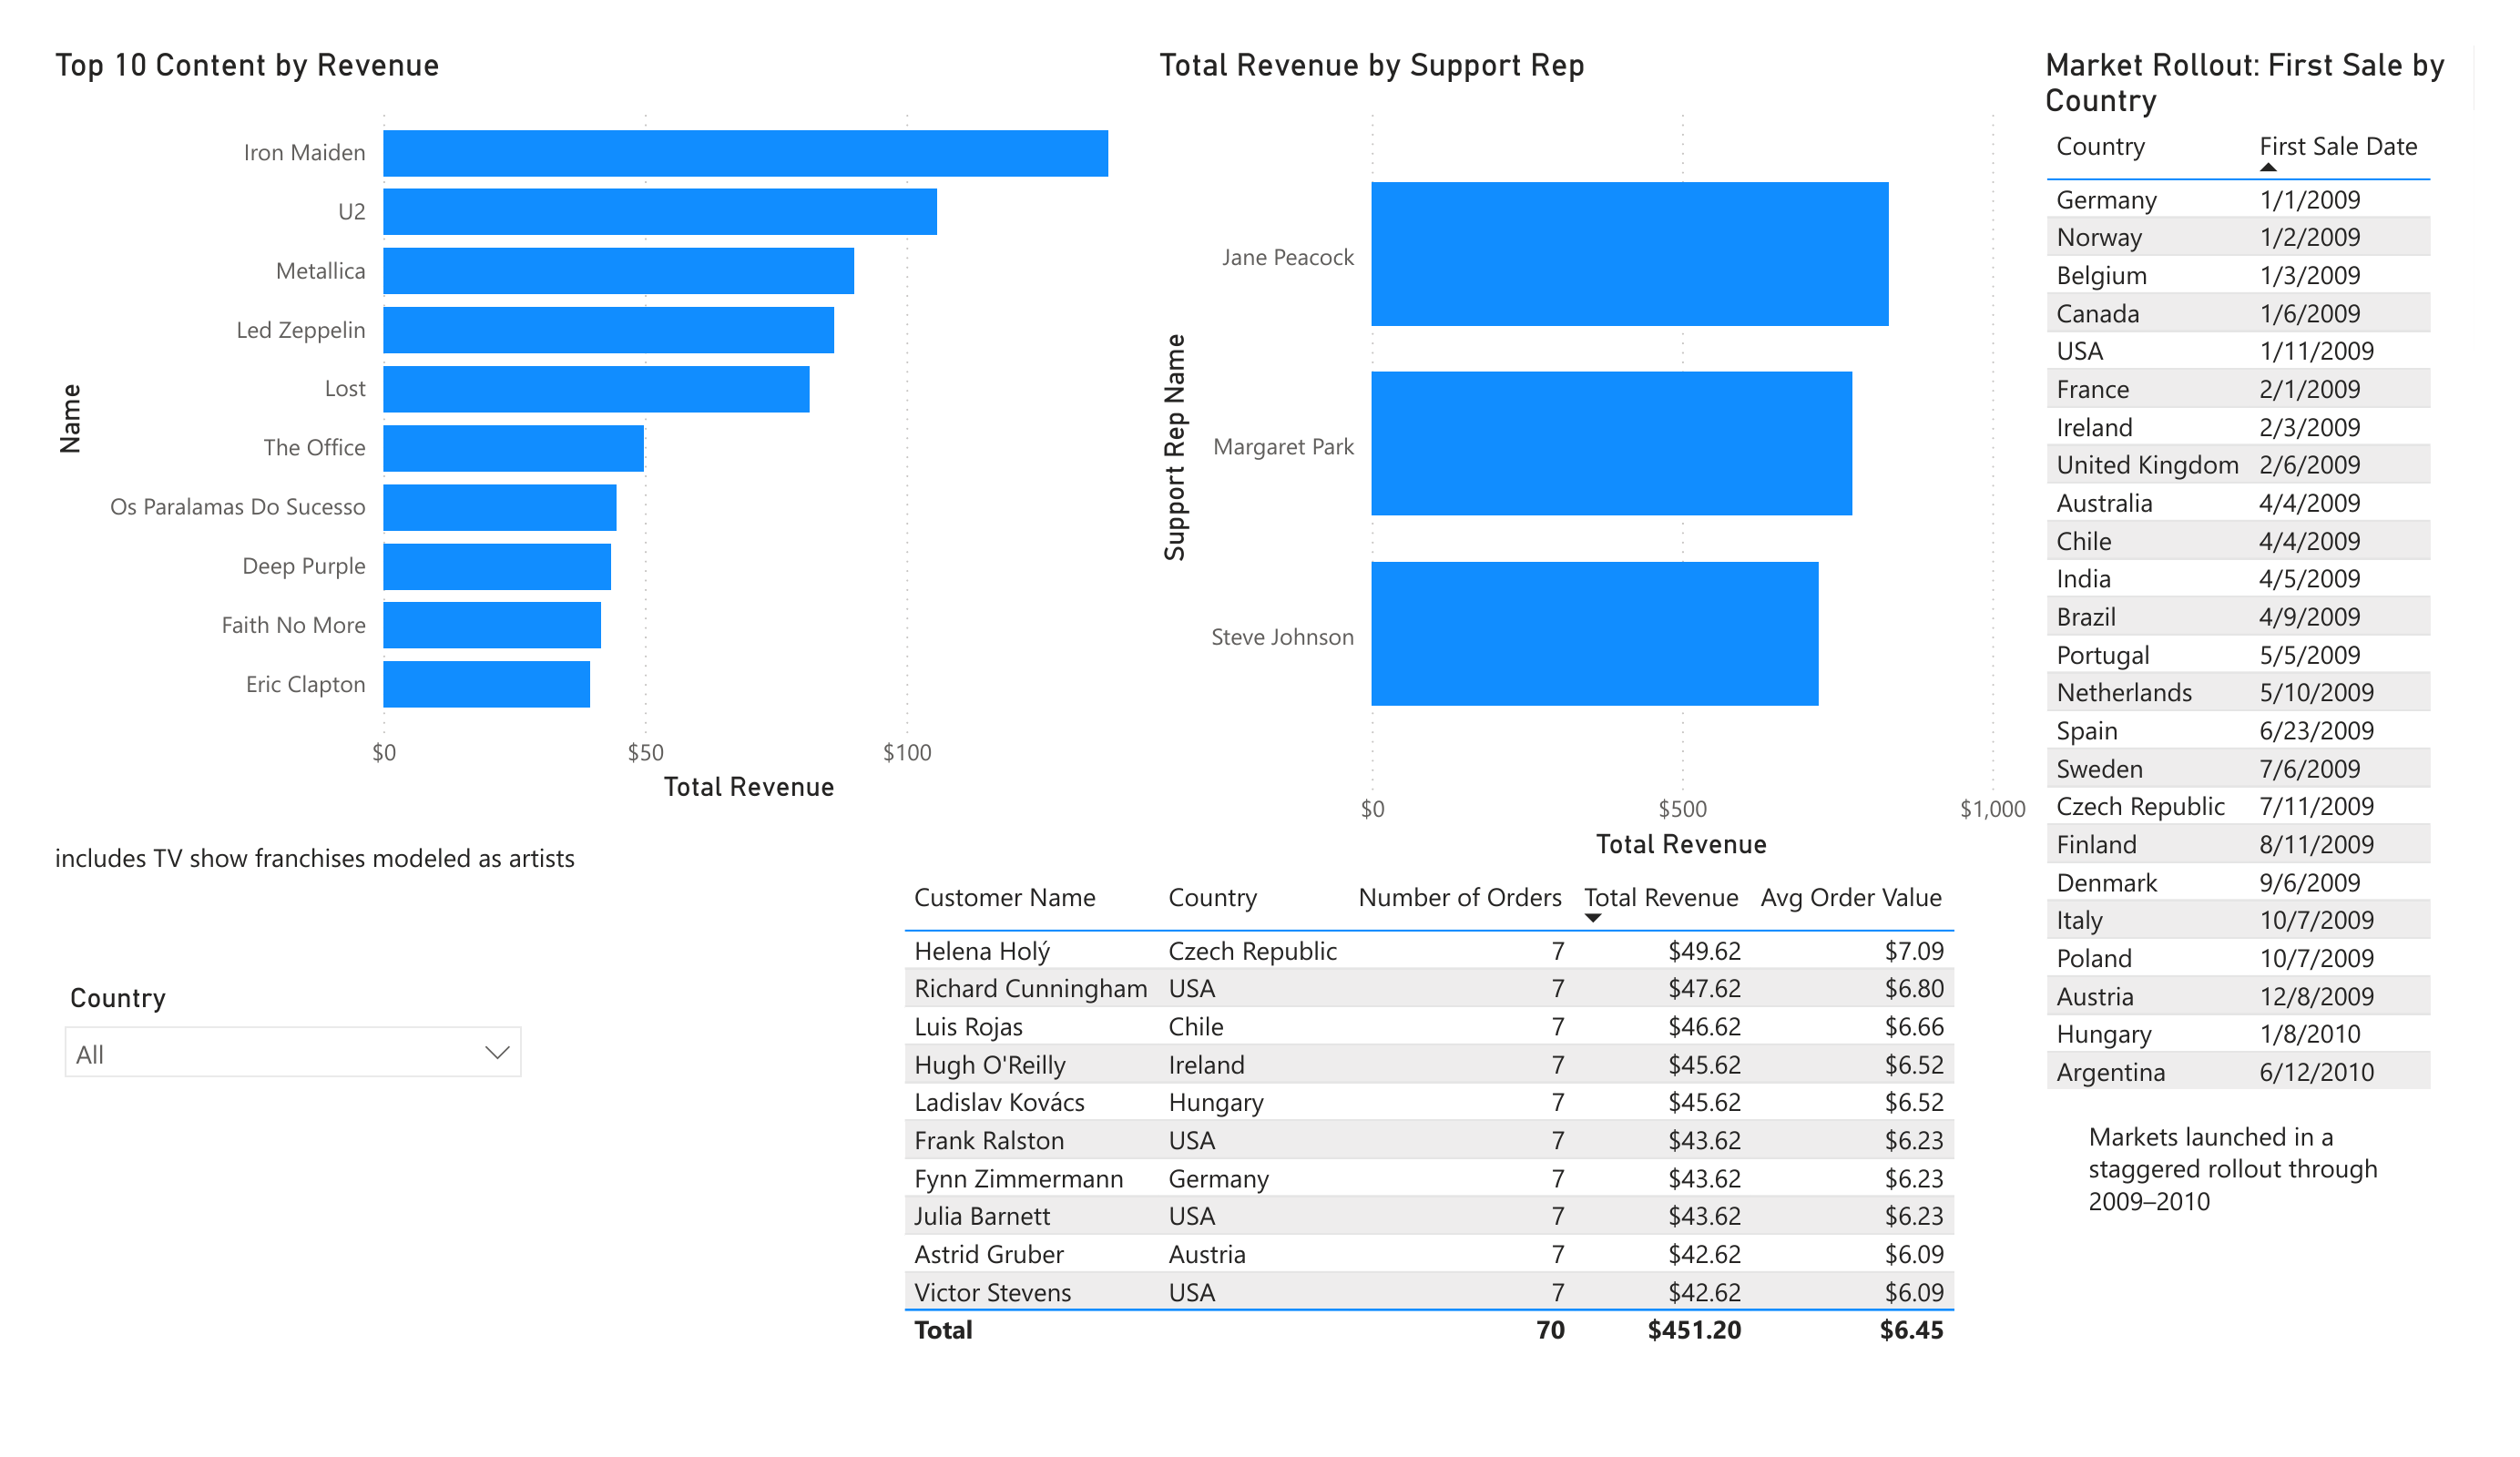

What the dashboard file says about the page in this screenshot:
{"tool":"powerbi","page":{"name":"Deep Dive","canvas":[1280,720],"ordinal":1},"visuals":[{"type":"clusteredBarChart","title":"Top 10 Content by Revenue","fields":{"Category":["Artist.Name"],"Y":["AllMeasures.Total Revenue"]},"box":[0,0,581.6,403.6],"z":0},{"type":"textbox","box":[0,414.3,521.3,37.9],"z":1},{"type":"tableEx","title":"Market Rollout: First Sale by Country","fields":{"Values":["Customer.Country","AllMeasures.First Sale Date"]},"box":[1049.5,0,230.5,561.2],"z":2},{"type":"clusteredBarChart","title":"Total Revenue by Support Rep","fields":{"Category":["Employee.Support Rep Name"],"Y":["AllMeasures.Total Revenue"]},"box":[581.6,0,467.8,433.8],"z":3},{"type":"tableEx","fields":{"Values":["Customer.Customer Name","Customer.Country","AllMeasures.Number of Orders","AllMeasures.Total Revenue","AllMeasures.Avg Order Value"]},"box":[447.4,433.8,587.5,286],"z":4},{"type":"slicer","fields":{"Values":["Customer.Country"]},"box":[0,489.2,260.7,230.5],"z":5},{"type":"textbox","box":[1071.9,561.2,169.2,64.2],"z":6}]}

Visuals, with their boxes on the page's 1280x720 design canvas (x1, y1, x2, y2). These are canvas units, not pixel positions in the 2520x1457 screenshot, which may show the page scaled, cropped or inside an application window:
"Top 10 Content by Revenue" clusteredBarChart: bbox(0, 0, 582, 404)
textbox: bbox(0, 414, 521, 452)
"Market Rollout: First Sale by Country" tableEx: bbox(1050, 0, 1280, 561)
"Total Revenue by Support Rep" clusteredBarChart: bbox(582, 0, 1049, 434)
tableEx - Customer.Customer Name x Customer.Country: bbox(447, 434, 1035, 720)
slicer - Customer.Country: bbox(0, 489, 261, 720)
textbox: bbox(1072, 561, 1241, 625)
